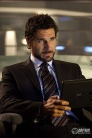male: (23, 13, 62, 67)
